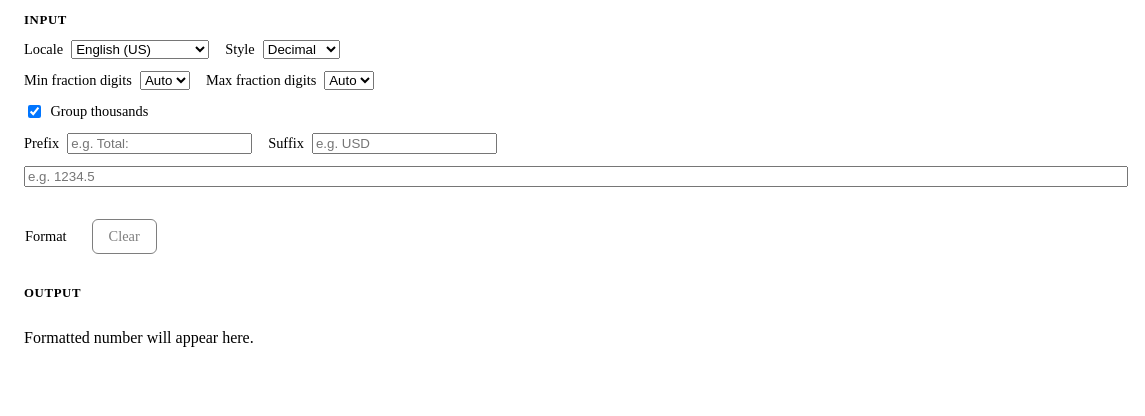
it: NumberFormatterTool › reflects a currency selection in currency style
The width and height of the screenshot is (1145, 416).
Select "Currency" in the dropdown labelled "Style" at (301, 50), box x1=263 y1=40 x2=340 y2=59
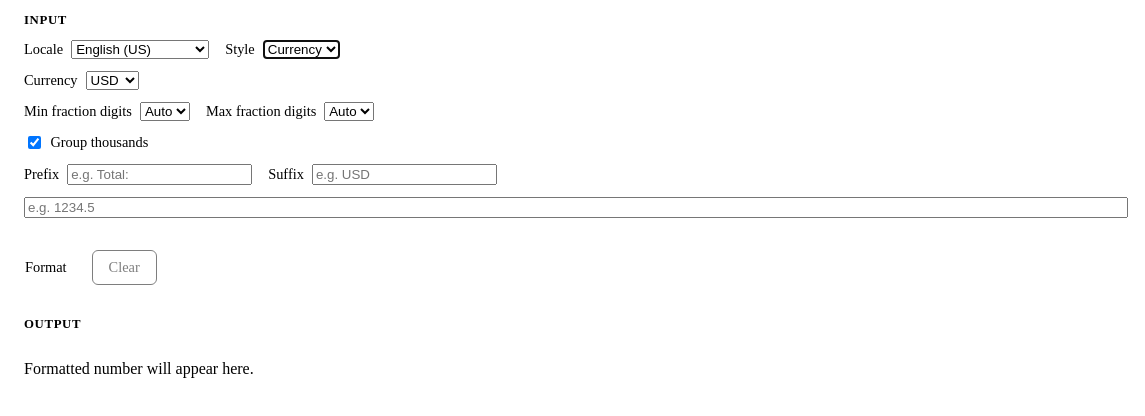
Select "JPY" in the dropdown labelled "Currency" at (112, 80), box x1=86 y1=71 x2=138 y2=90
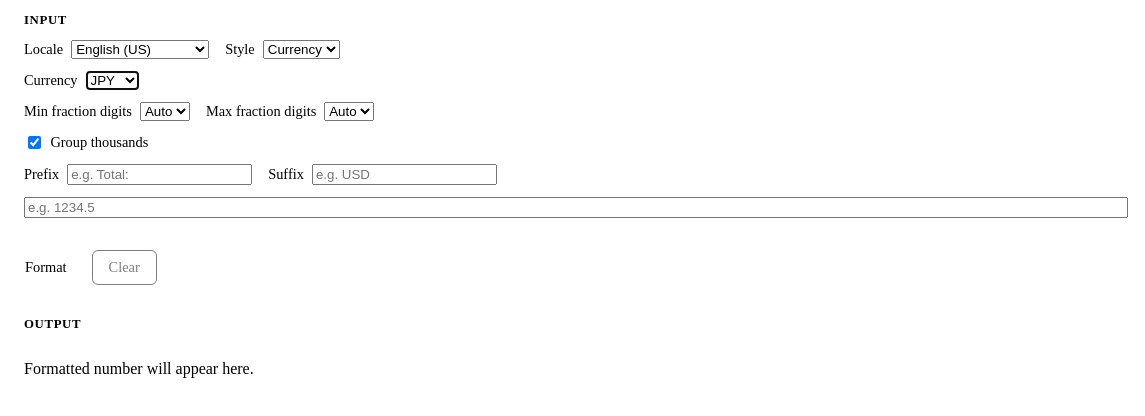
Type "42" into the field named "Number input".
click(576, 208); type("42")  # box x1=24 y1=197 x2=1128 y2=218
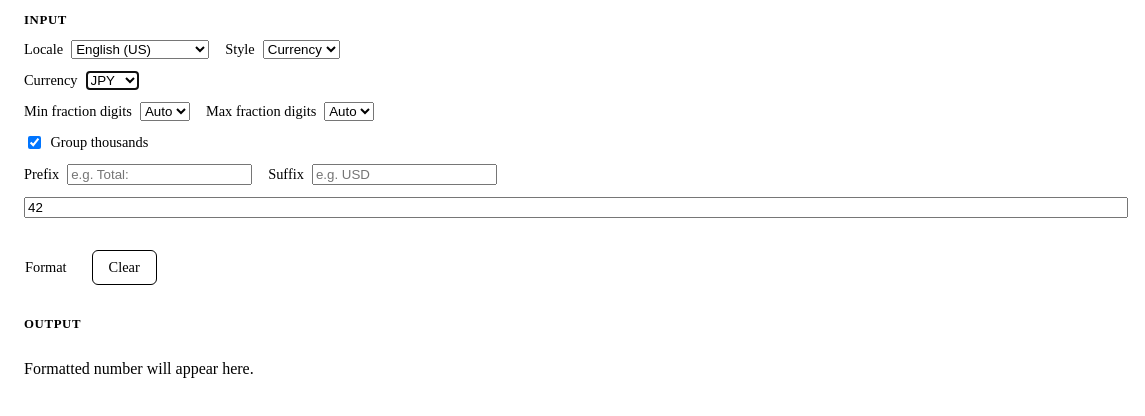
Click the button "Format".
click(46, 268)  # box x1=8 y1=250 x2=84 y2=285
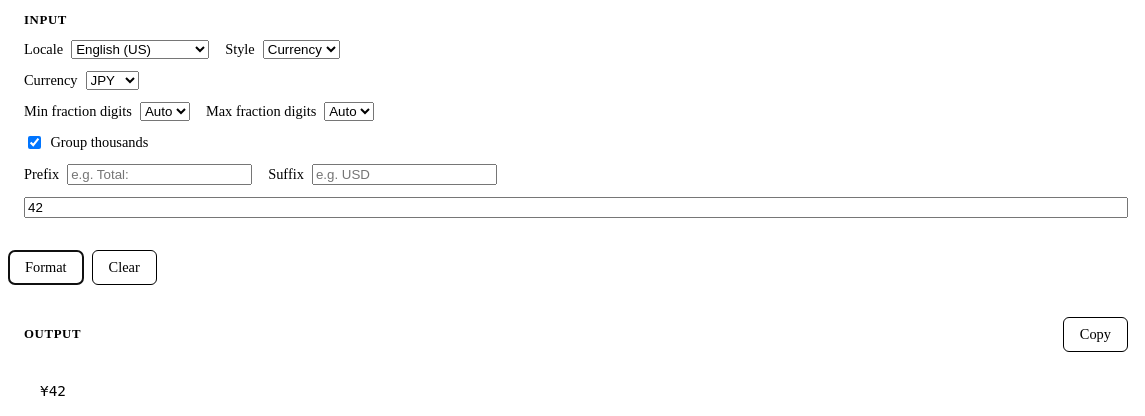
Now the text with test id "number-output" reads "¥42", box x1=40 y1=383 x2=66 y2=399
